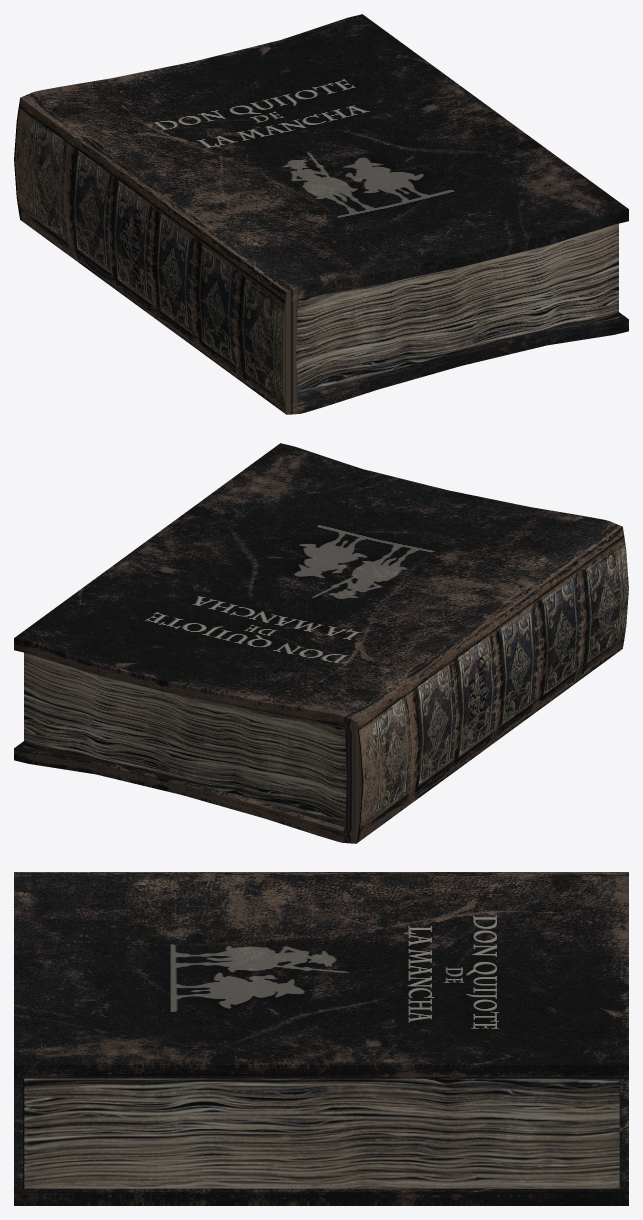
Rendered from FbxBook.fbx.
3 views of the same model, one above another, from view 1: azimuth 30°, elevation 25°; view 2: azimuth 150°, elevation 25°; view 3: azimuth 270°, elevation 25° (orthographic). The views are drawn at different scales.
Visible parts, largest first — view 1: Book; view 2: Book; view 3: Book.
Boxes of the visible parts, x1,y1,x2,y2 form: Book: [14, 14, 628, 414]; Book: [14, 443, 628, 843]; Book: [14, 872, 628, 1205].
Size of the model in its own units: 9.61 by 3.35 by 12.73.
1 material, 1 textured.
